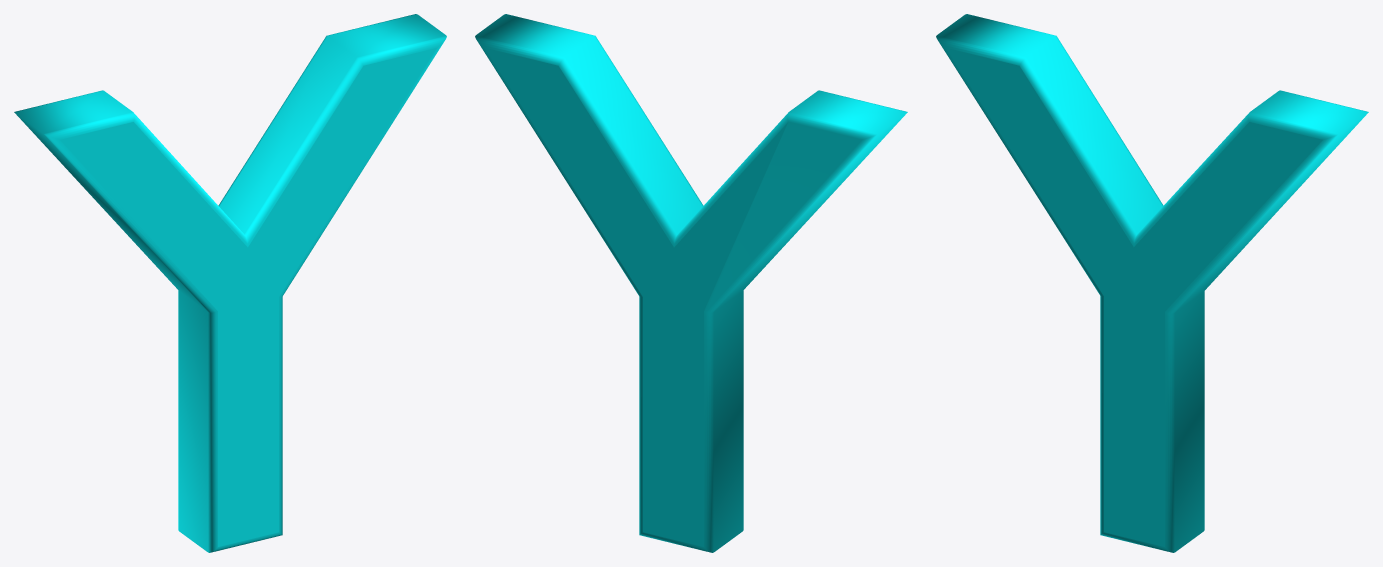
The picture shows the model from 3 angles, left to right: view 1: azimuth 30°, elevation 25°; view 2: azimuth 150°, elevation 25°; view 3: azimuth 330°, elevation 25°; orthographic projection.
Visible parts, largest first — view 1: YY; view 2: YY; view 3: YY.
Part boxes in pixels (x1,y1,x2,y2): YY: (14,14,446,552); YY: (475,14,907,552); YY: (936,14,1368,552).
Bounding box in the file's own units: 0.4595 × 0.5 × 0.0712.
